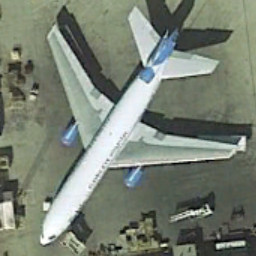Airplane: (17, 4, 242, 251)
